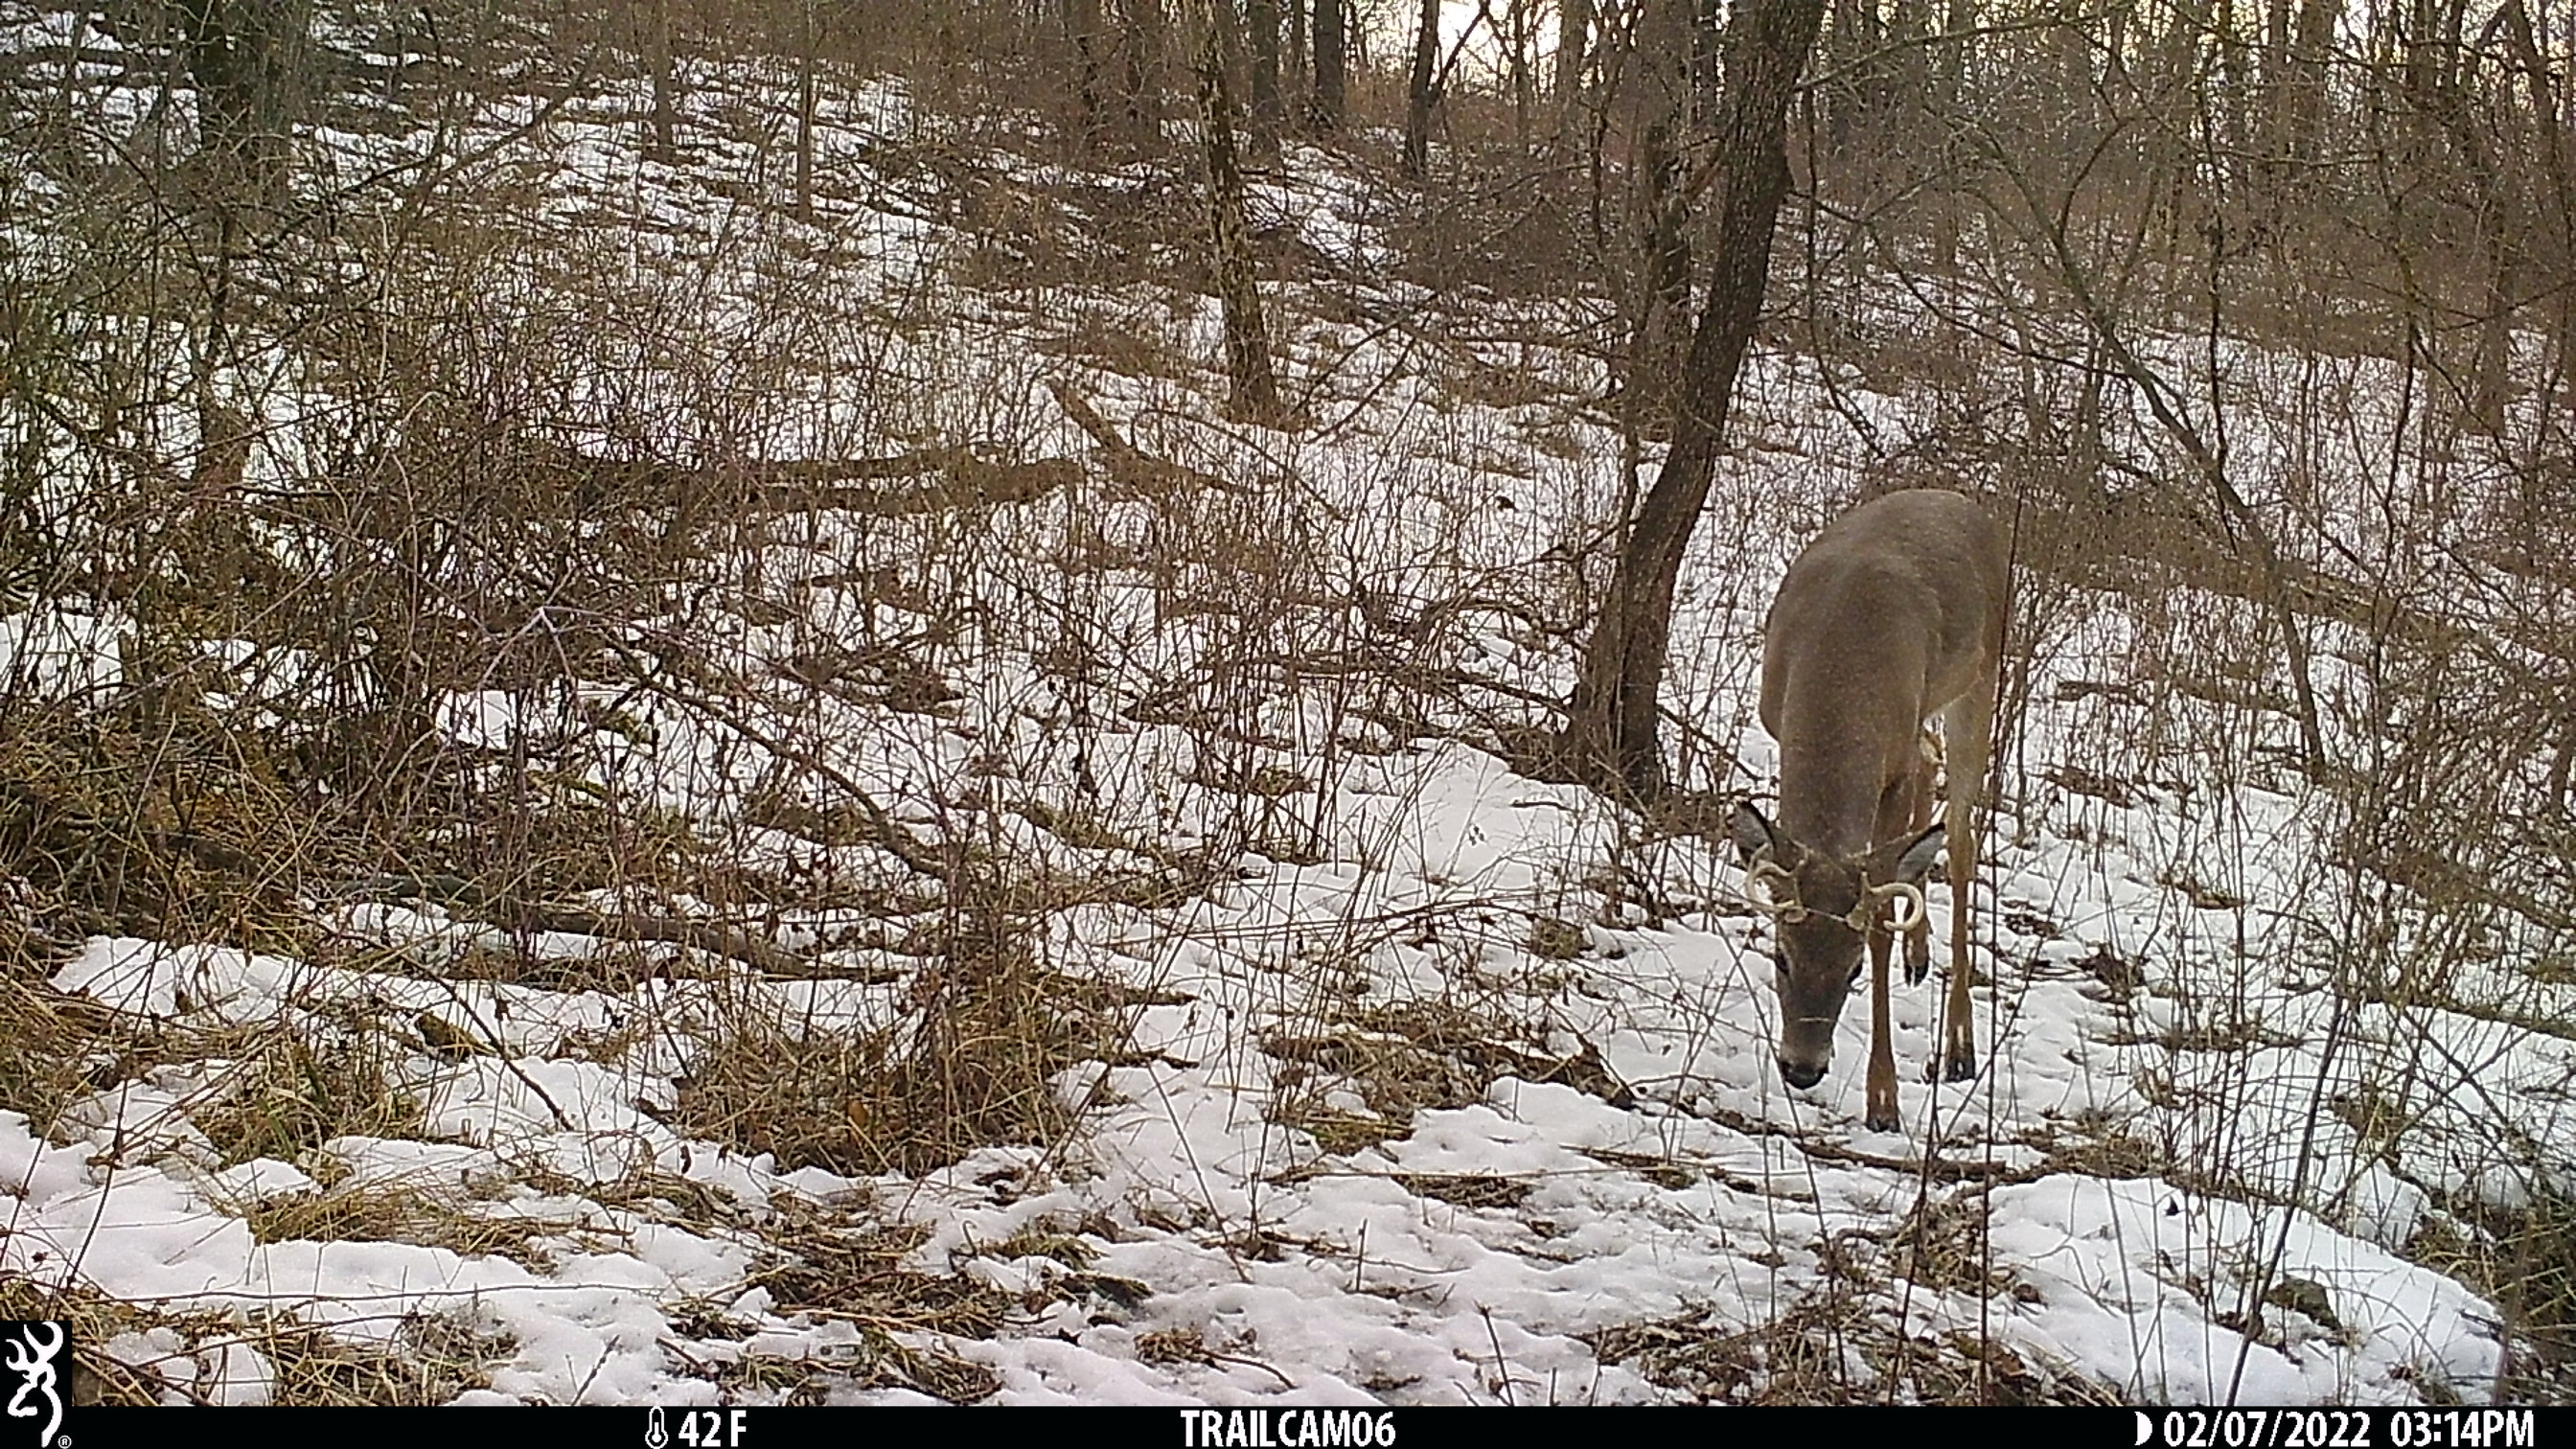DeerBuck: (1744, 487, 2015, 1128)
DeerBuckHead: (1745, 801, 1949, 1089)
